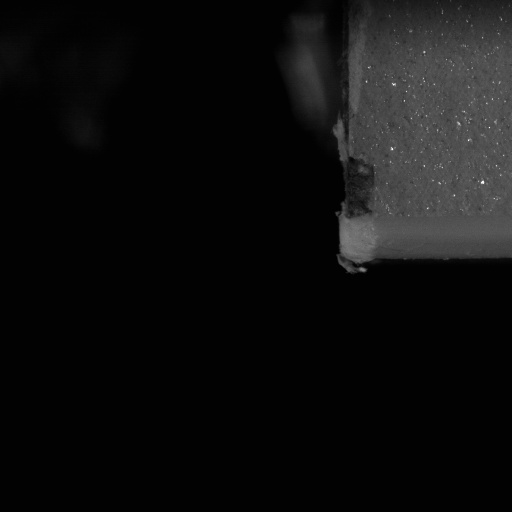bengque: (339, 155, 380, 223)
